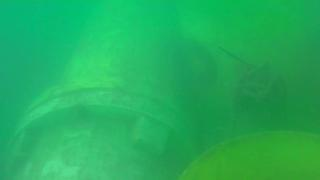pipe: (1, 1, 192, 180), (176, 1, 307, 105), (177, 128, 320, 180)
